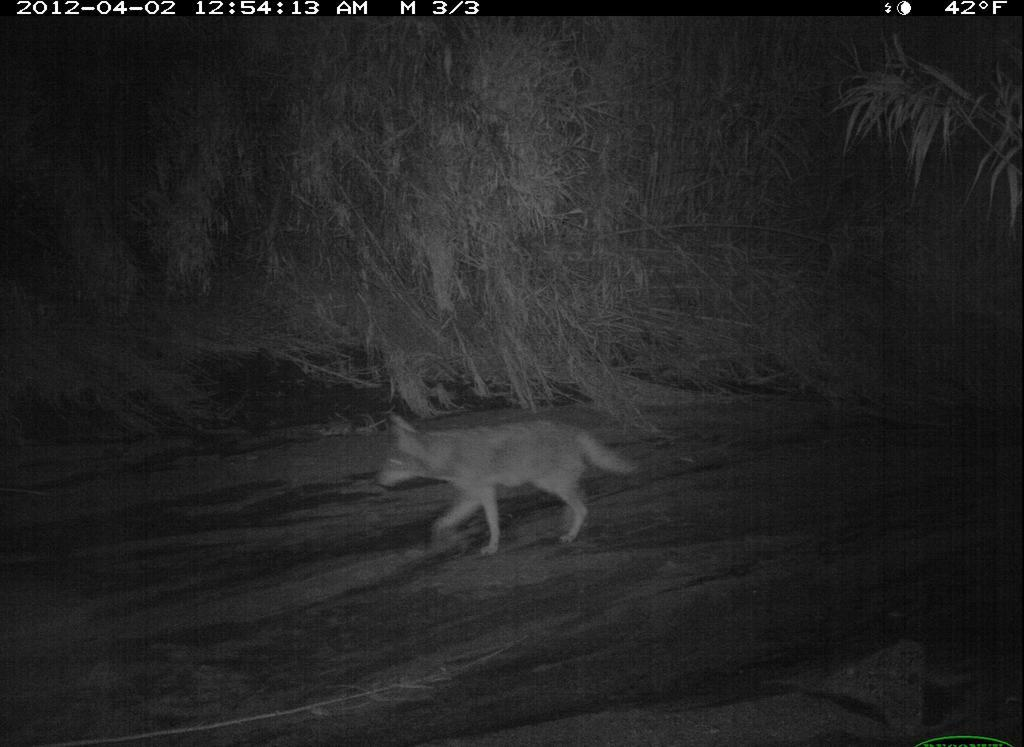coyote: (376, 402, 646, 557)
